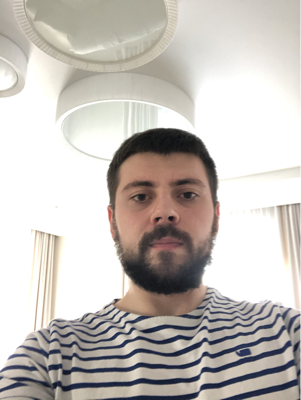without_mask: (118, 171, 212, 297)
